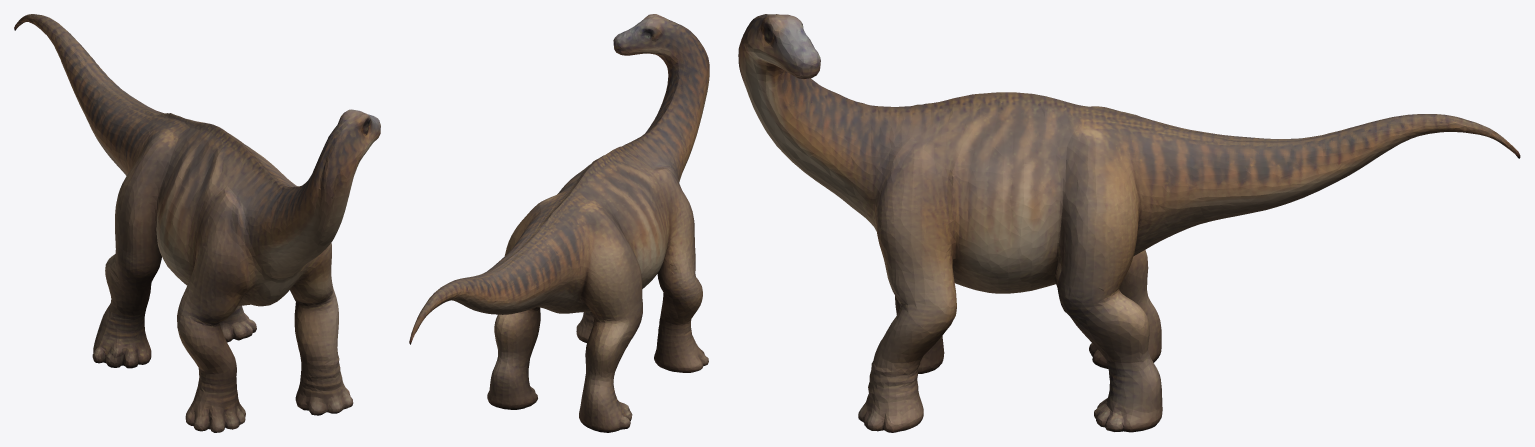
3 views of the same model, side by side, from view 1: azimuth 30°, elevation 25°; view 2: azimuth 150°, elevation 25°; view 3: azimuth 270°, elevation 25° (orthographic). The views are drawn at different scales.
Visible parts, largest first — view 1: world; view 2: world; view 3: world.
Part boxes in pixels (x1,y1,x2,y2): world: (14,14,380,432); world: (409,14,709,432); world: (738,14,1520,432).
Bounding box in the file's own units: 0.2782 × 0.5582 × 0.999.
Materials: 1 (1 with a texture image).
